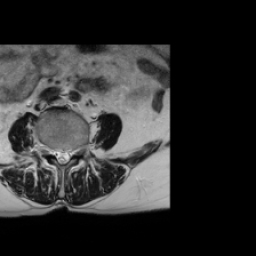CCS_normal: (60, 143, 64, 169)
LFS_normal: (72, 142, 78, 159)
LLS_normal: (64, 145, 71, 166)
RFS_normal: (47, 140, 53, 160)
RLS_normal: (53, 143, 60, 166)
